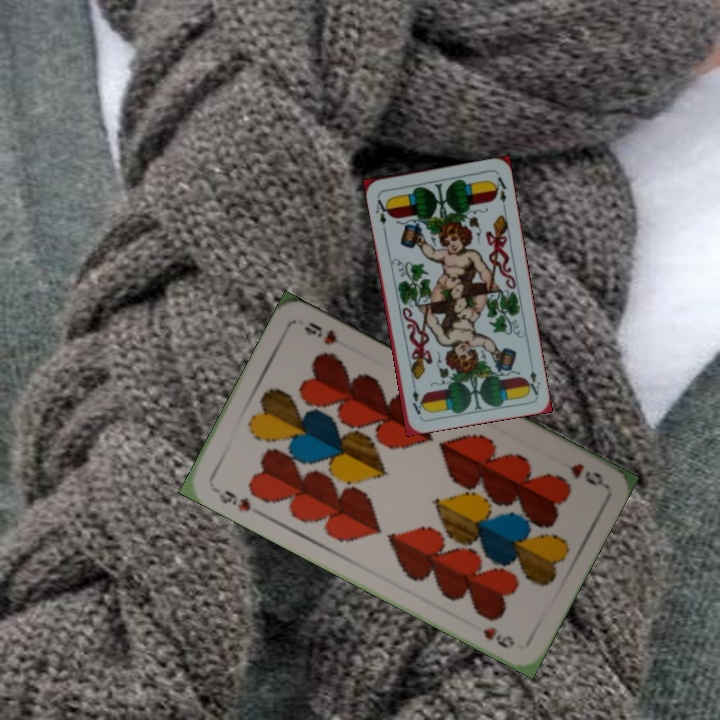EA: (371, 192, 392, 227), (522, 366, 543, 398)
H9: (564, 459, 606, 489), (215, 486, 254, 515)
